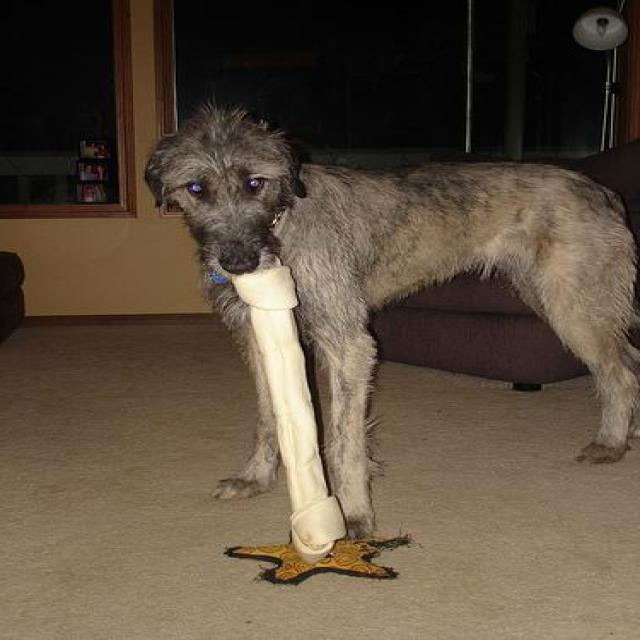irish_wolfhound: (142, 93, 632, 535)
